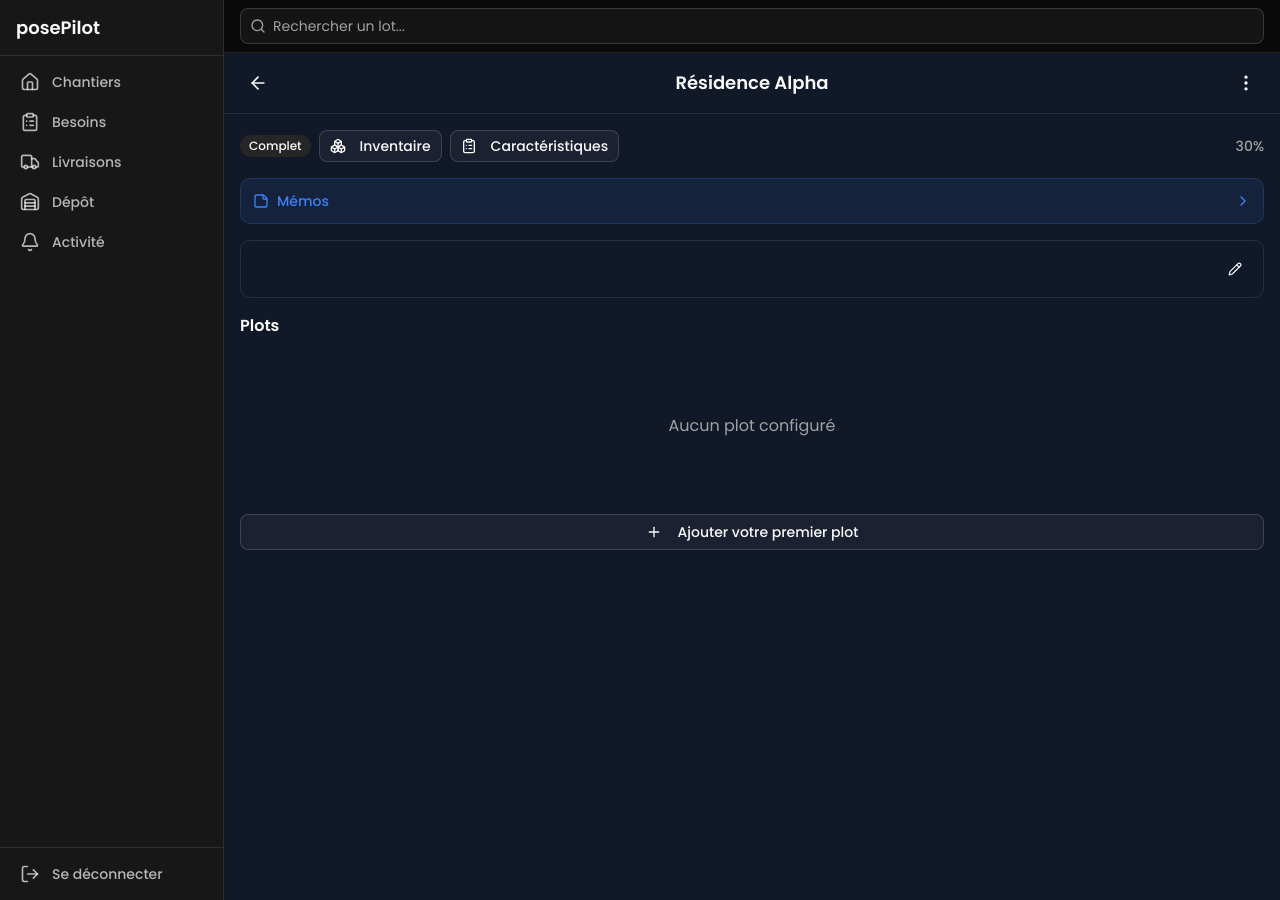
Scenario: ChantierPage › shows "Terminer" AlertDialog when "Marquer comme terminé" is clicked
Expected: the heading "Résidence Alpha" is shown, [676, 69, 829, 97]
What coordinates should you click on to do the following:
click the button named "Options du chantier"
I would click on:
 (1246, 83)
Its box is [1228, 65, 1264, 101].
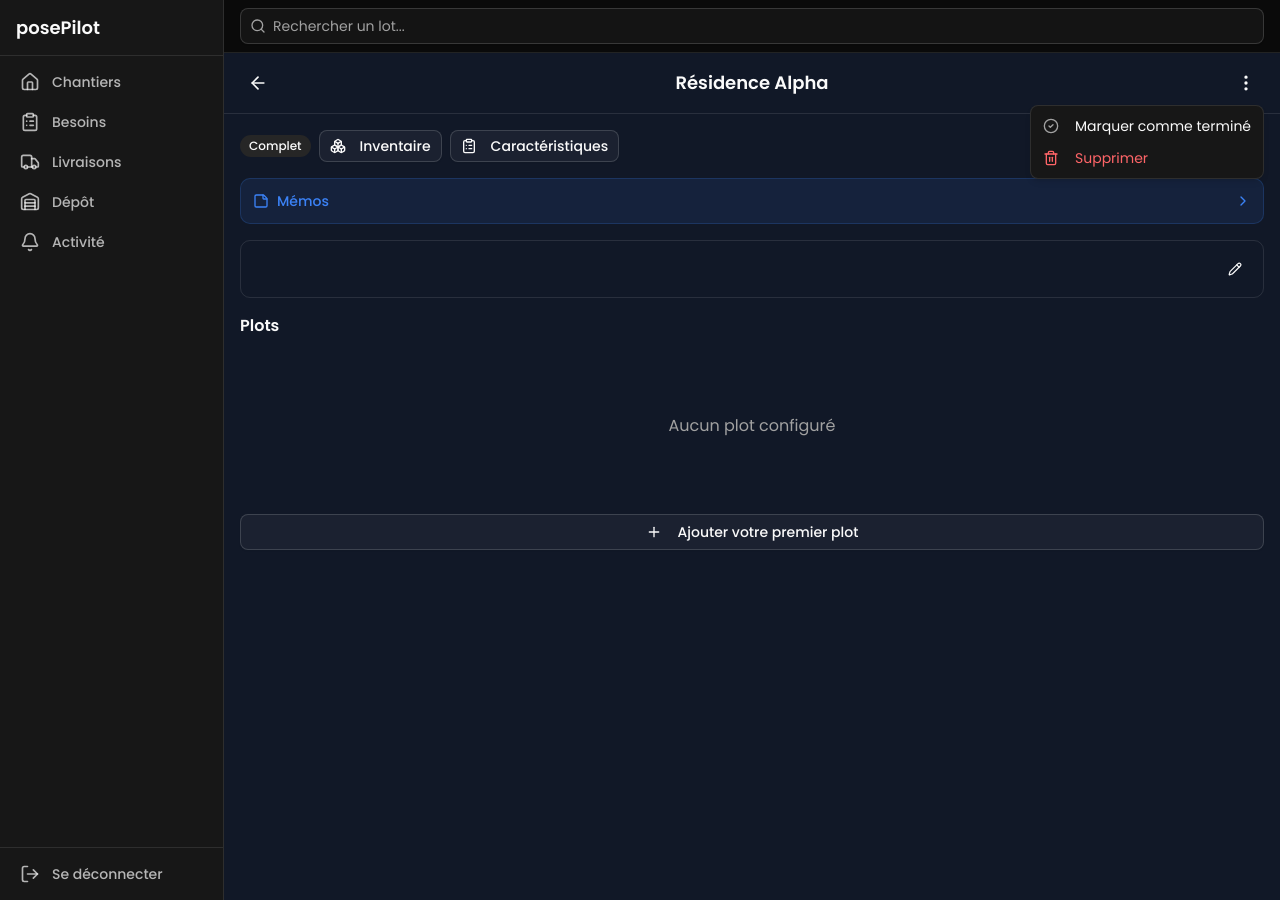
What coordinates should you click on to do the following:
click the menu item "Marquer comme terminé"
I would click on:
 (1147, 126)
Its box is [1035, 110, 1259, 142].
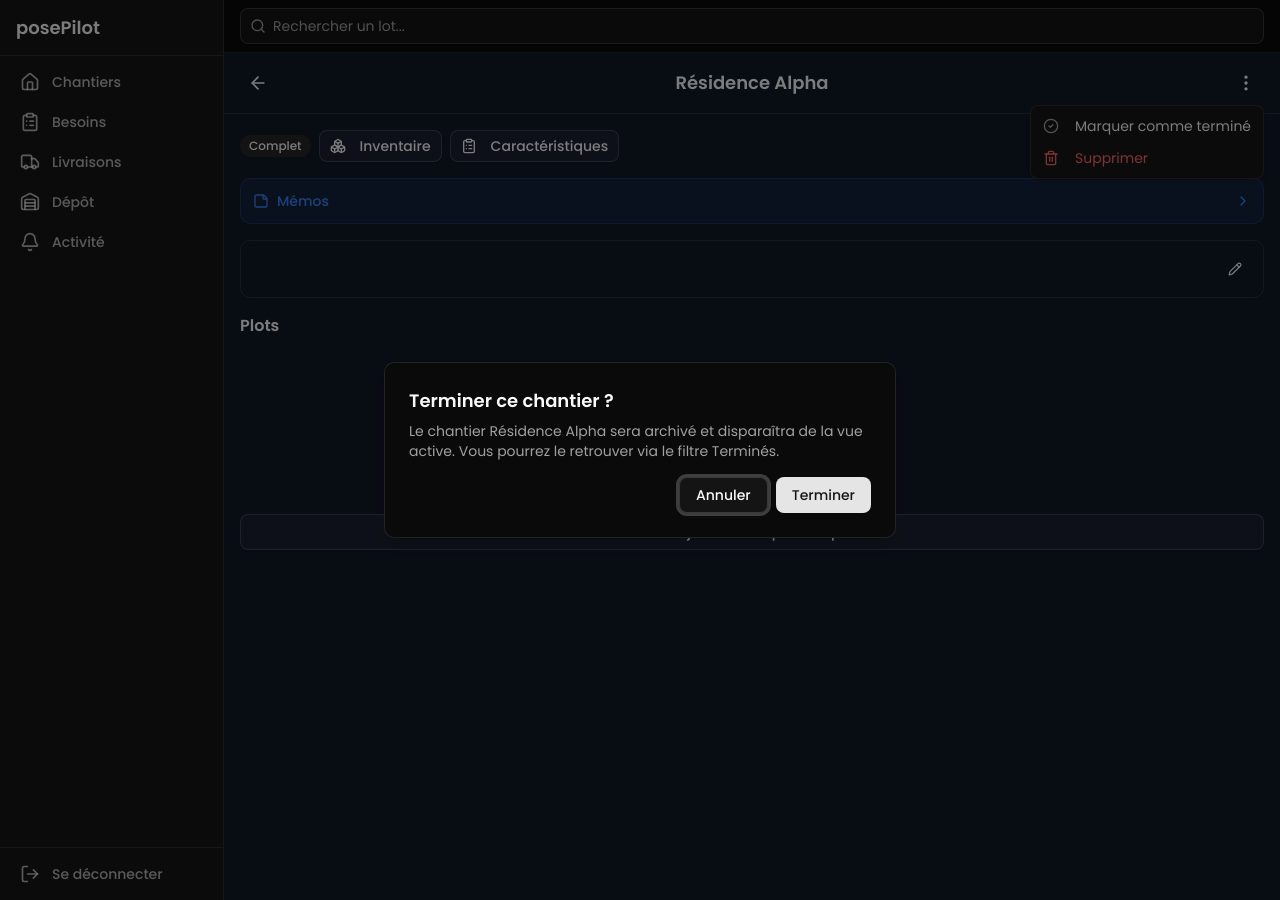
Expected: the dialog is shown, [384, 362, 896, 538]
Expected: the heading "Terminer ce chantier ?" is shown, [409, 387, 614, 415]
Expected: the text "sera archivé et disparaîtra de la vue active" is shown, [409, 421, 863, 461]
